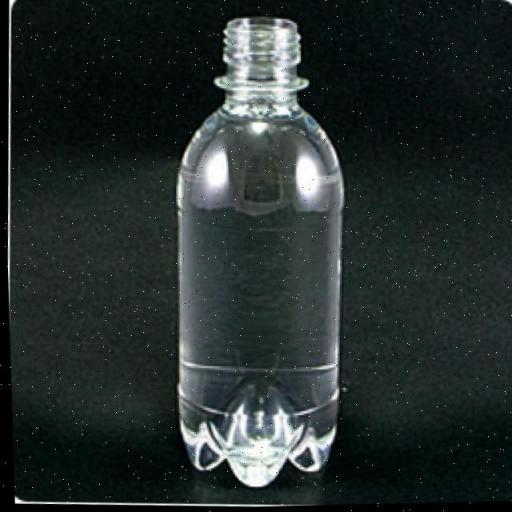plastic: (158, 11, 356, 492)
